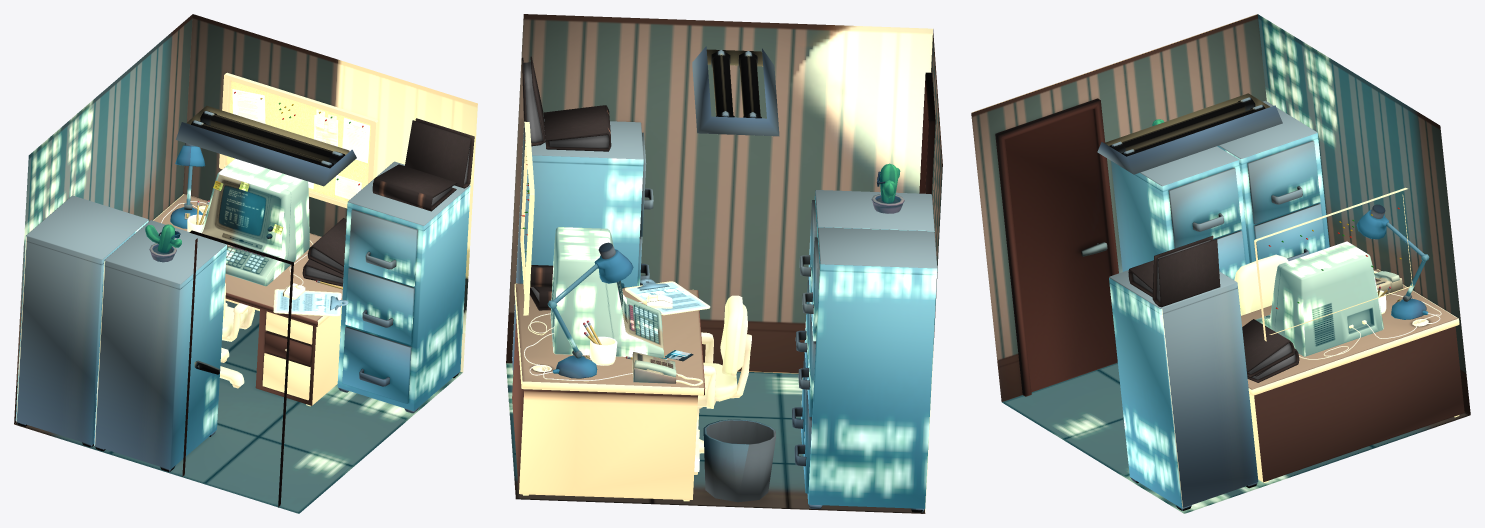
File: Sad_Office_Room.gltf
The picture shows the model from 3 angles, left to right: view 1: azimuth 30°, elevation 25°; view 2: azimuth 150°, elevation 25°; view 3: azimuth 270°, elevation 25°; orthographic projection. The views are drawn at different scales.
Visible parts, largest first — view 1: old_pc.000_Room_mat_0; view 2: old_pc.000_Room_mat_0; view 3: old_pc.000_Room_mat_0.
Part boxes in pixels (left/top/right/bottom): old_pc.000_Room_mat_0: left=14, top=14, right=477, bottom=513; old_pc.000_Room_mat_0: left=506, top=14, right=942, bottom=513; old_pc.000_Room_mat_0: left=971, top=14, right=1470, bottom=513.
Bounding box in the file's own units: 17.58 × 13.43 × 18.43.
Materials: 1 (1 with a texture image).
